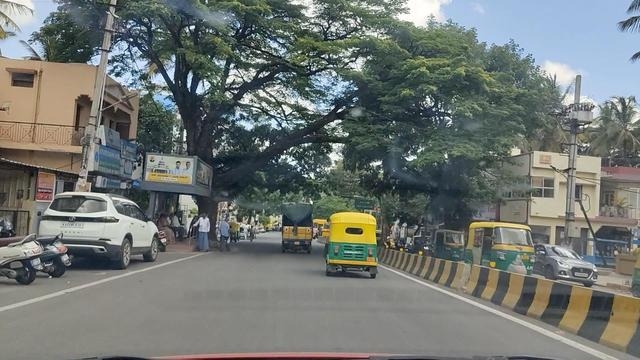HMV: (283, 203, 314, 254)
LMV: (330, 213, 374, 276)
